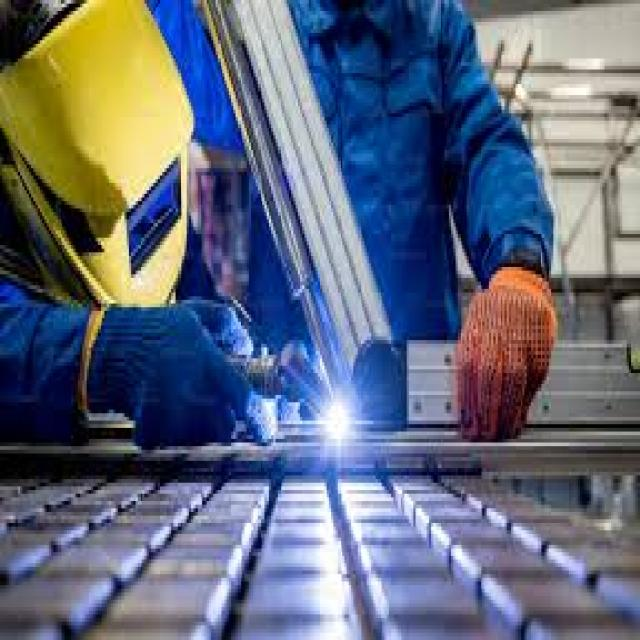welding: (327, 398, 352, 436)
